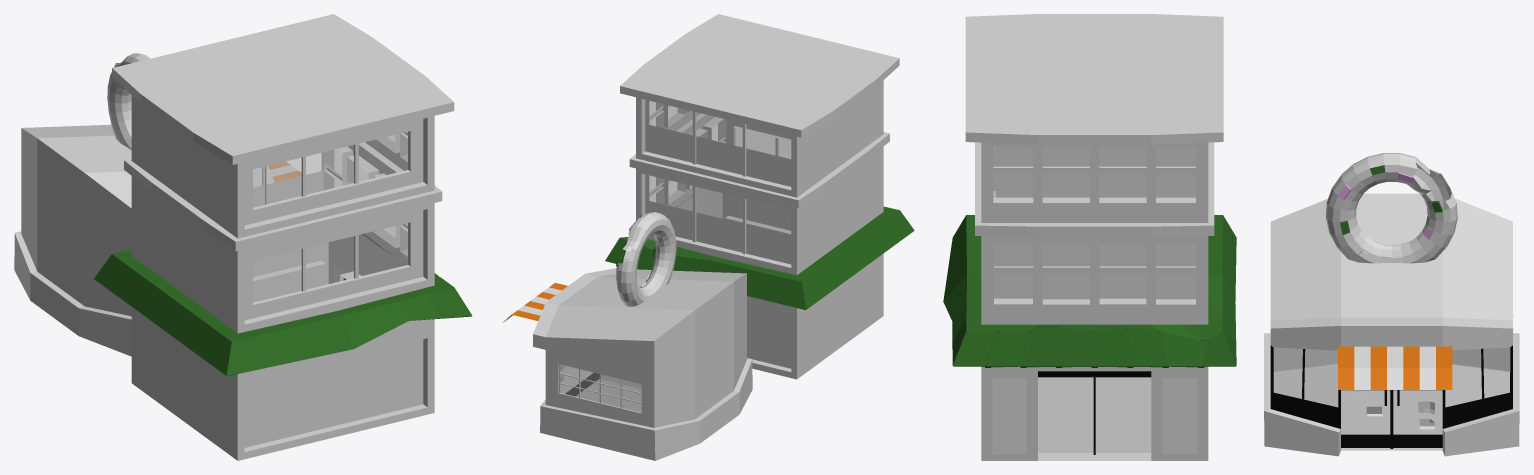
The model's file is Donut Shop and Vape Shop.fbx.
3 renders of one model, left to right at view 1: azimuth 30°, elevation 25°; view 2: azimuth 150°, elevation 25°; view 3: azimuth 270°, elevation 25°, orthographic. The views are drawn at different scales.
Parts seen in each view (by area): view 1: Cube.182, Plane.027, Cube.185; view 2: Cube.182, Plane.027, Cube.185; view 3: Cube.182, Plane.027, Cube.185.
Boxes of the visible parts, x1,y1,x2,y2 form: Cube.182: (112,14,454,460); Plane.027: (14,53,301,356); Cube.185: (94,234,472,375); Cube.182: (620,14,899,379); Plane.027: (503,212,752,460); Cube.185: (605,196,914,309); Cube.182: (965,14,1223,460); Plane.027: (1264,153,1519,456); Cube.185: (943,215,1236,367).
Size of the model in its own units: 680 by 747 by 1165.
